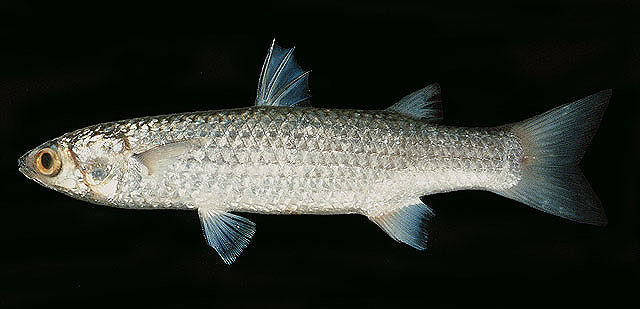fish: (16, 39, 615, 268)
